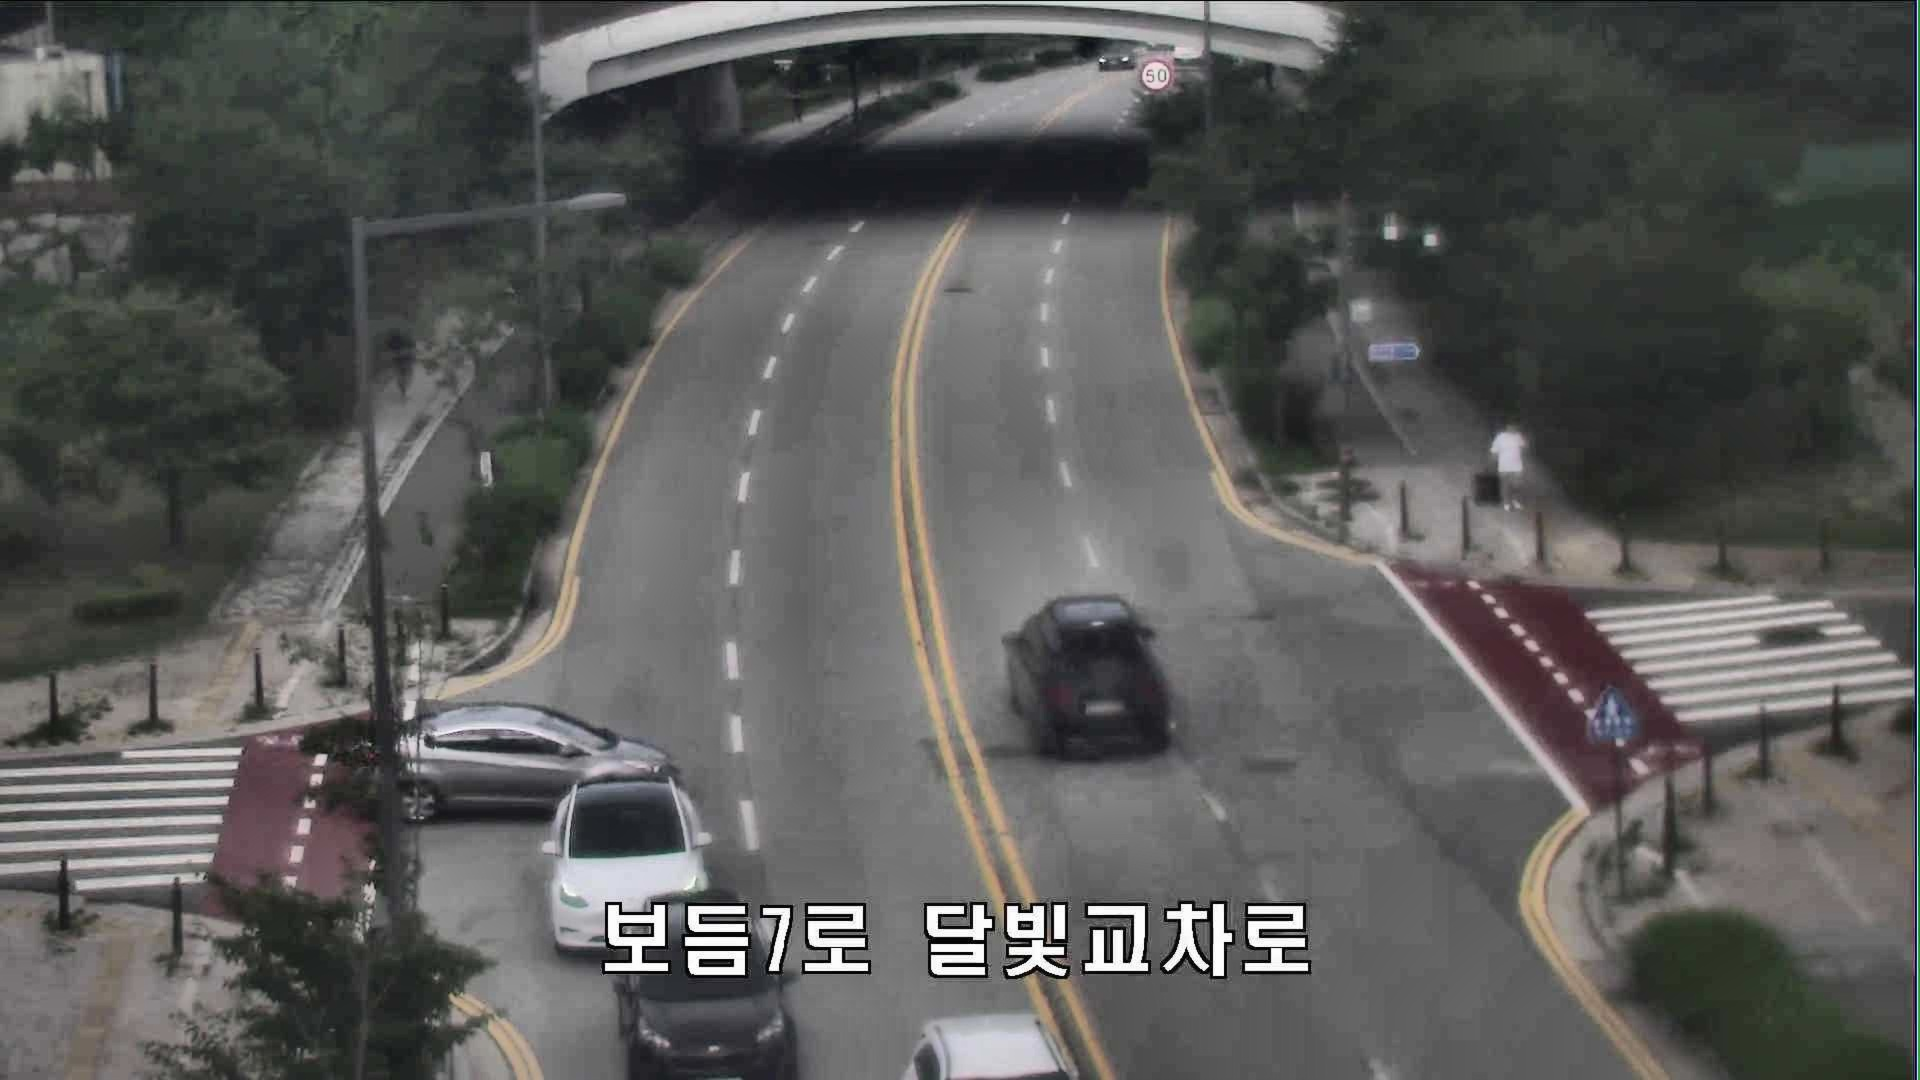sidewalk: (1481, 415, 1532, 512)
